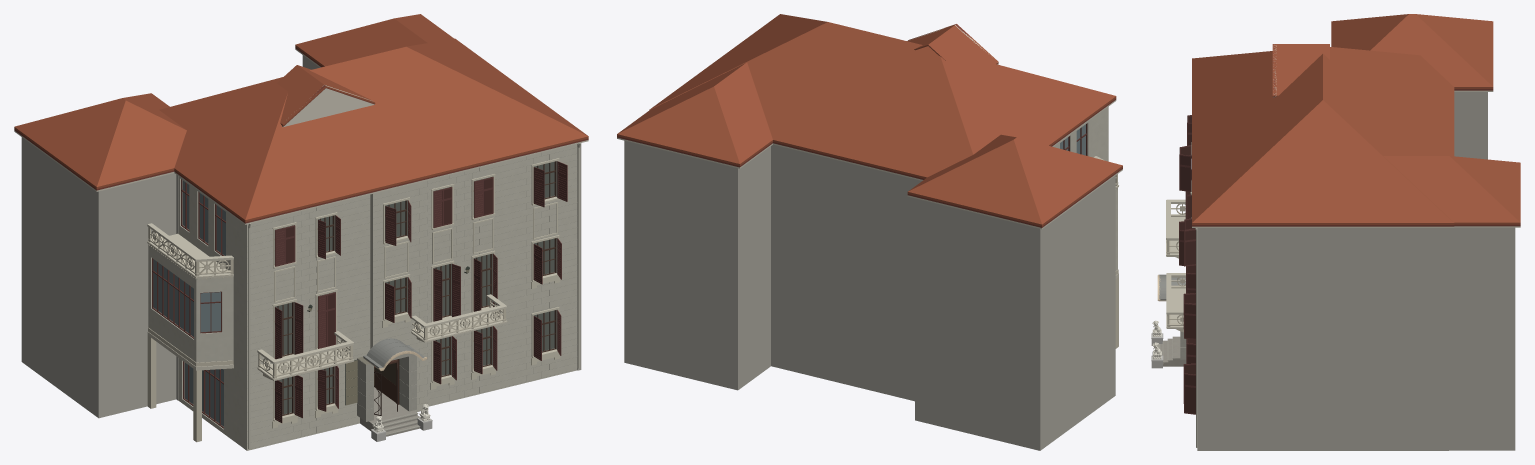
The model's file is lod-source.glb.
The picture shows the model from 3 angles, left to right: view 1: azimuth 30°, elevation 25°; view 2: azimuth 150°, elevation 25°; view 3: azimuth 270°, elevation 25°; orthographic projection. The views are drawn at different scales.
Parts seen in each view (by area): view 1: 怡和医院旧址庭院立面与拱顶门廊; view 2: 怡和医院旧址庭院立面与拱顶门廊; view 3: 怡和医院旧址庭院立面与拱顶门廊.
Part boxes in pixels (x1,y1,x2,y2): 怡和医院旧址庭院立面与拱顶门廊: (14,14,588,450); 怡和医院旧址庭院立面与拱顶门廊: (617,14,1122,450); 怡和医院旧址庭院立面与拱顶门廊: (1151,14,1520,450).
Size of the model in its own units: 28.98 by 20.29 by 22.41.
36 materials, 3 textured.
